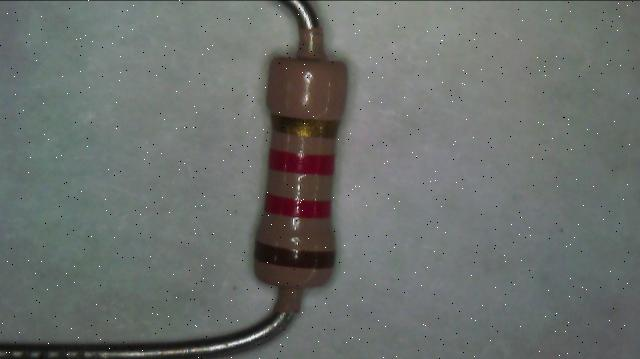brown: (254, 242, 335, 268)
gold: (272, 116, 336, 137)
red: (270, 150, 334, 176), (265, 193, 331, 218)
resistor: (235, 50, 371, 307)
